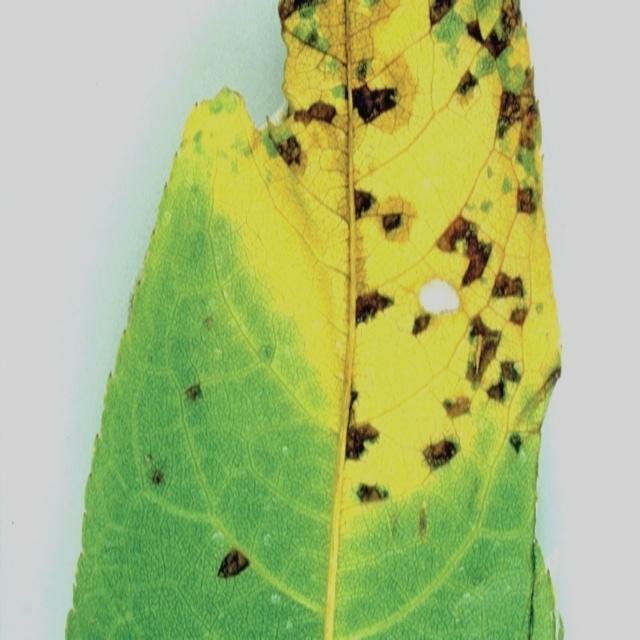shot_hole: (31, 0, 574, 640)
